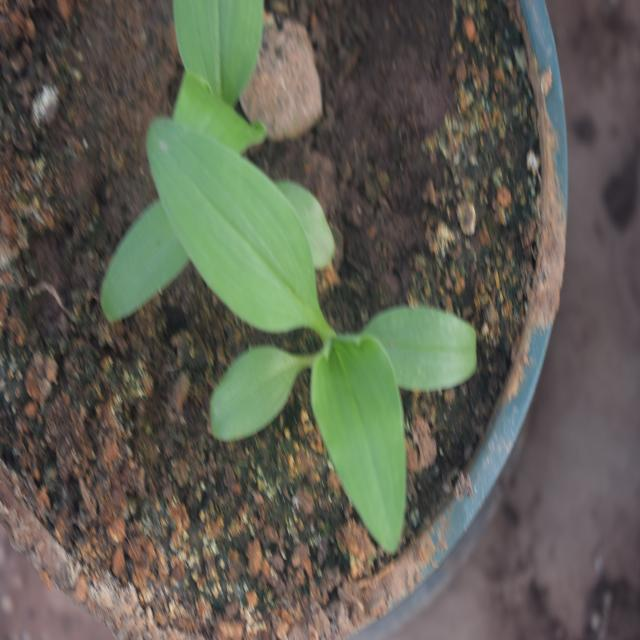Common Dayflower: (128, 116, 458, 520)
